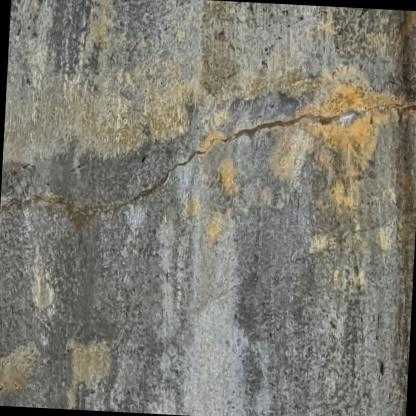crack: (0, 95, 416, 220)
